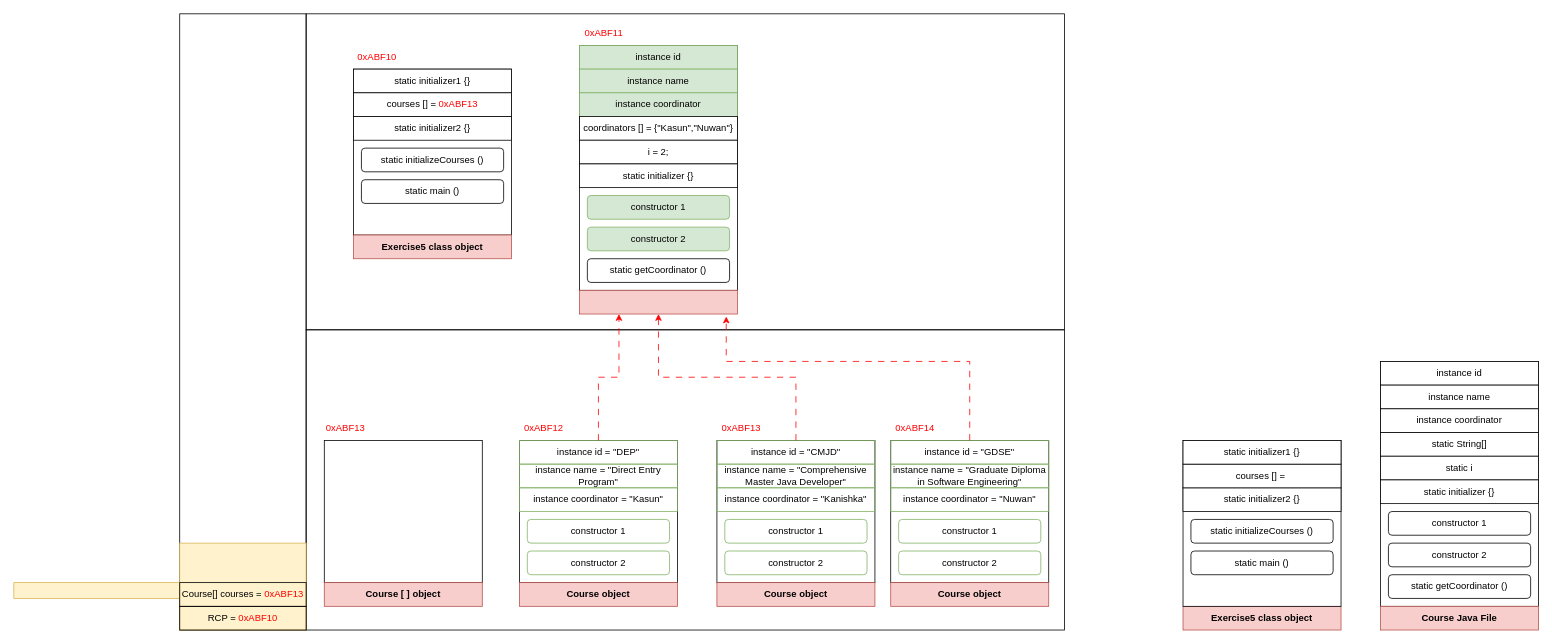
The diagram is 1552 pixels wide and 644 high, and some of its shapes have lost their labels. Here are the shapes that lost their labels. From the top down, the centre of each, then its label:
At point (658, 302): "Course class object".
At point (403, 511): "Course[3] = { 0xABF12 , 0xABF13 , null }".
At point (96, 590): "0xABF10 initializeCourses()".
